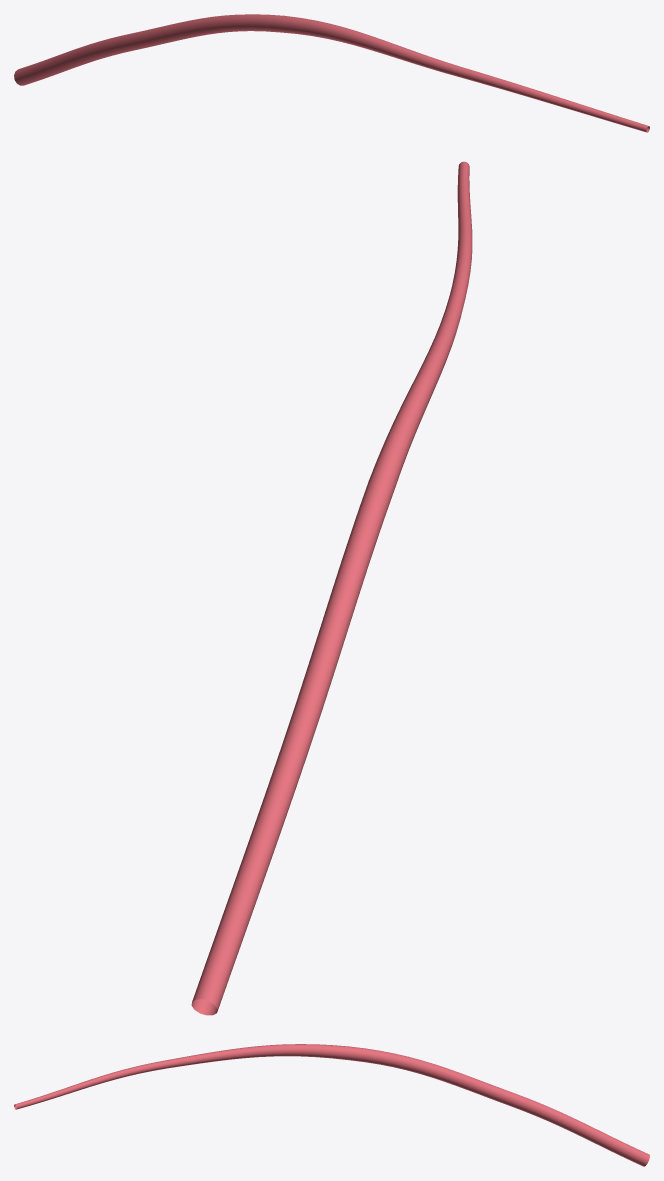
The picture shows the model from 3 angles, top to bottom: view 1: azimuth 30°, elevation 25°; view 2: azimuth 150°, elevation 25°; view 3: azimuth 270°, elevation 25°; orthographic projection. The views are drawn at different scales.
Parts seen in each view (by area): view 1: ZA_104711891c482cc4; view 2: ZA_104711891c482cc4; view 3: ZA_104711891c482cc4.
Boxes of the visible parts, <box> form: ZA_104711891c482cc4: <box>14,14,649,132</box>; ZA_104711891c482cc4: <box>191,161,472,1015</box>; ZA_104711891c482cc4: <box>14,1044,649,1166</box>.
Size of the model in its own units: 0.0162 by 0.0128 by 0.046.
